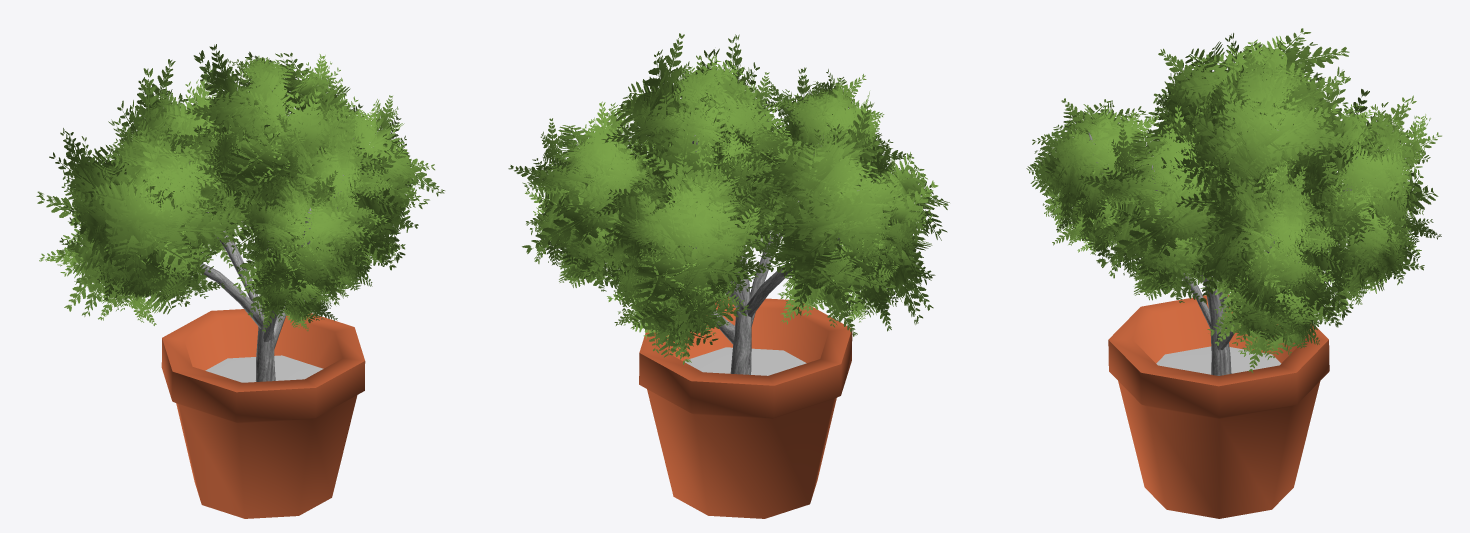
File: JacarandaSaplingHand.fbx
3 renders of one model, left to right at view 1: azimuth 30°, elevation 25°; view 2: azimuth 150°, elevation 25°; view 3: azimuth 270°, elevation 25°, orthographic. The views are drawn at different scales.
Visible parts, largest first — view 1: Leaves (1), FlowerPot (2), GumTree2 (1), FlowerPot (3); view 2: Leaves (1), FlowerPot (2), GumTree2 (1), FlowerPot (3); view 3: Leaves (1), FlowerPot (2), GumTree2 (1), FlowerPot (3).
Part boxes in pixels (x1=…): Leaves (1): x1=36, y1=44, x2=444, y2=332; FlowerPot (2): x1=161, y1=309, x2=365, y2=518; GumTree2 (1): x1=189, y1=138, x2=353, y2=381; FlowerPot (3): x1=205, y1=355, x2=323, y2=382; Leaves (1): x1=508, y1=33, x2=949, y2=364; FlowerPot (2): x1=639, y1=297, x2=852, y2=518; GumTree2 (1): x1=689, y1=135, x2=859, y2=374; FlowerPot (3): x1=685, y1=347, x2=806, y2=375; Leaves (1): x1=1026, y1=28, x2=1441, y2=372; FlowerPot (2): x1=1108, y1=295, x2=1329, y2=518; GumTree2 (1): x1=1088, y1=129, x2=1357, y2=375; FlowerPot (3): x1=1156, y1=346, x2=1281, y2=374.
Bounding box in the file's own units: 1.66 × 1.68 × 1.5.
